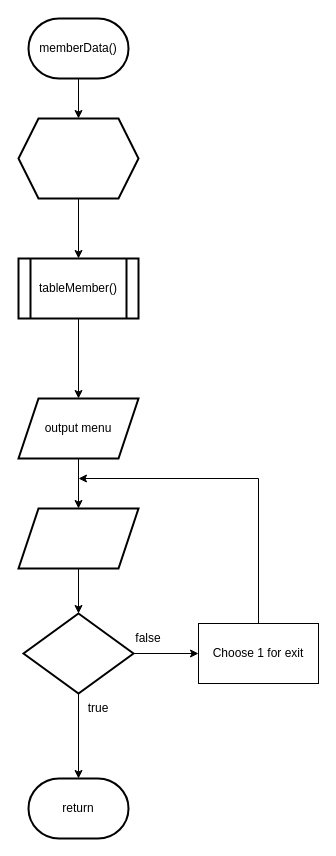
Image size: 336x856. Some labels were removed from this diagram. Each missing label, with the centre of its shape:
"choice == 1" belongs at point 78,653.
"input choice" belongs at point 78,538.
"int choice" belongs at point 78,158.
